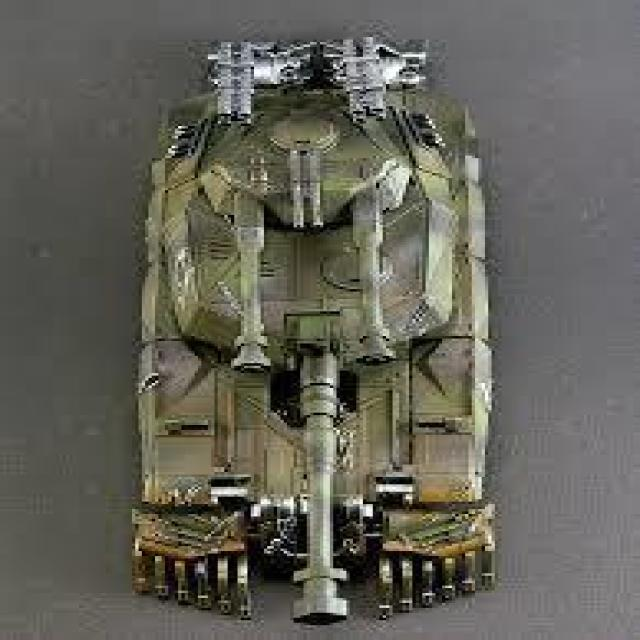Tanks: (130, 22, 493, 625)
